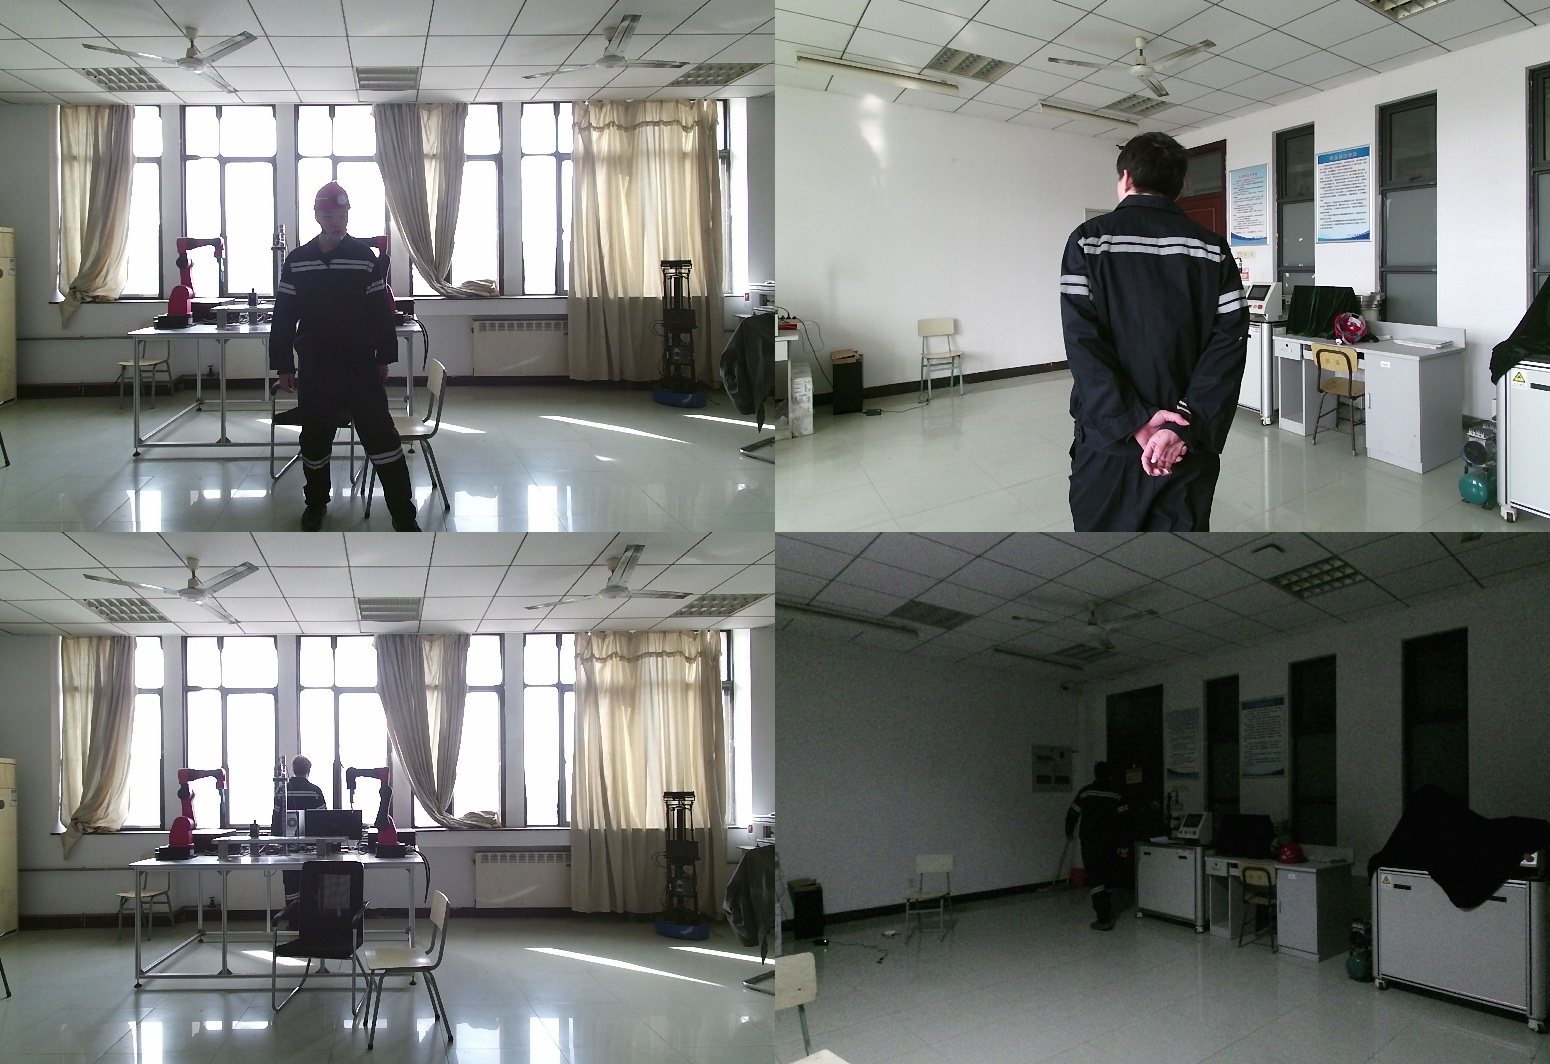person: (1063, 132, 1269, 532), (272, 181, 422, 532), (1064, 764, 1138, 943), (272, 756, 336, 954)
